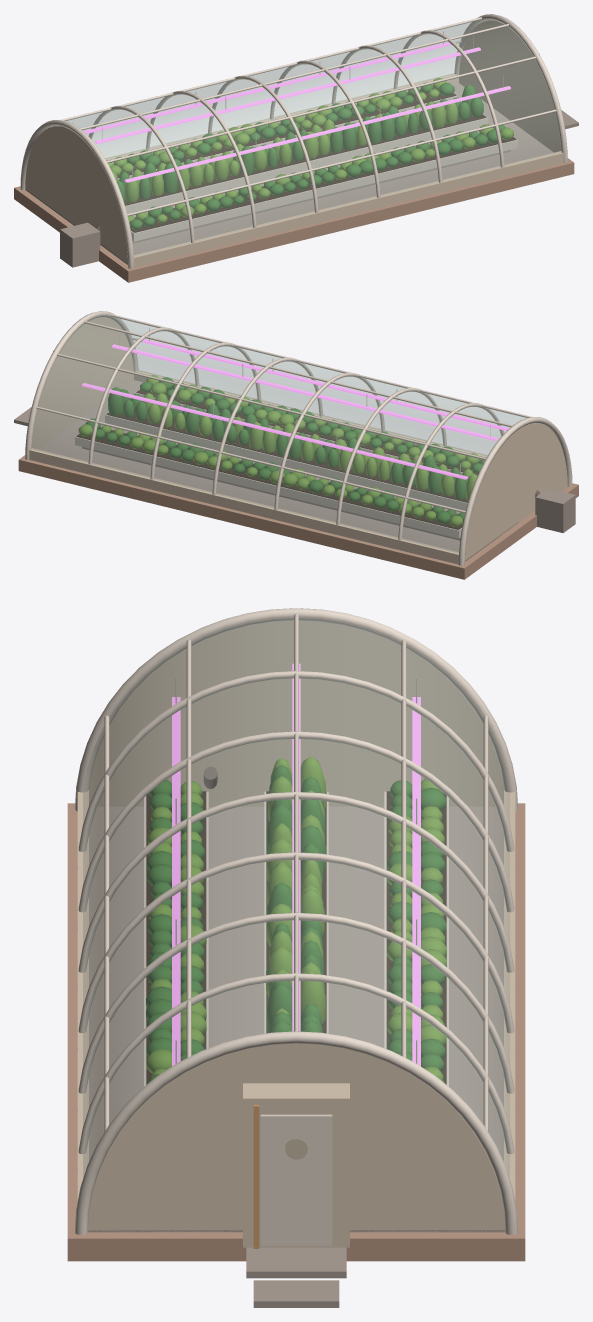
File: A01_arched_greenhouse_14m.glb
The picture shows the model from 3 angles, top to bottom: view 1: azimuth 30°, elevation 25°; view 2: azimuth 150°, elevation 25°; view 3: azimuth 270°, elevation 25°; orthographic projection. The views are drawn at different scales.
Visible parts, largest first — view 1: glazing, end_wall (×2), rib (×8), foundation, bed_trough (×3), base_wall (×2), floor, purlin (×4), grow_light (×3), substrate (×3), climate_unit, bed_stand (+1 smaller); view 2: glazing, end_wall (×2), rib (×8), foundation, base_wall (×2), bed_trough (×2), floor, purlin (×4), grow_light (×3), substrate (×3), climate_unit, bed_stand (+2 smaller); view 3: glazing, end_wall (×2), floor, rib (×8), foundation, purlin (×5), airlock_door, airlock_porch, grow_light (×3), base_wall (×2), step (×2), substrate (×3) (+2 smaller).
Boxes of the visible parts, x1=… form: glazing: x1=66, y1=18, x2=561, y2=256; end_wall (×2): x1=25, y1=20, x2=561, y2=263; rib (×8): x1=20, y1=14, x2=567, y2=268; foundation: x1=14, y1=158, x2=574, y2=282; bed_trough (×3): x1=118, y1=93, x2=517, y2=241; base_wall (×2): x1=25, y1=73, x2=563, y2=267; floor: x1=25, y1=83, x2=553, y2=264; purlin (×4): x1=60, y1=17, x2=556, y2=216; grow_light (×3): x1=83, y1=42, x2=510, y2=182; substrate (×3): x1=117, y1=88, x2=516, y2=232; climate_unit: x1=60, y1=222, x2=100, y2=267; bed_stand: x1=132, y1=150, x2=510, y2=243; glazing: x1=31, y1=315, x2=526, y2=553; end_wall (×2): x1=31, y1=317, x2=567, y2=560; rib (×8): x1=25, y1=311, x2=572, y2=565; foundation: x1=18, y1=455, x2=578, y2=579; base_wall (×2): x1=29, y1=370, x2=487, y2=564; bed_trough (×2): x1=75, y1=412, x2=467, y2=538; floor: x1=39, y1=380, x2=518, y2=561; purlin (×4): x1=36, y1=314, x2=532, y2=513; grow_light (×3): x1=82, y1=339, x2=509, y2=479; substrate (×3): x1=76, y1=389, x2=479, y2=529; climate_unit: x1=535, y1=488, x2=575, y2=532; bed_stand: x1=82, y1=447, x2=460, y2=540; glazing: x1=83, y1=618, x2=509, y2=1177; end_wall (×2): x1=88, y1=620, x2=504, y2=1232; floor: x1=88, y1=806, x2=505, y2=1232; rib (×8): x1=74, y1=608, x2=518, y2=1234; foundation: x1=67, y1=803, x2=525, y2=1261; purlin (×5): x1=104, y1=613, x2=488, y2=1132; airlock_door: x1=260, y1=1114, x2=332, y2=1245; airlock_porch: x1=243, y1=1083, x2=349, y2=1247; grow_light (×3): x1=172, y1=663, x2=420, y2=1066; base_wall (×2): x1=77, y1=790, x2=515, y2=1232; step (×2): x1=246, y1=1247, x2=346, y2=1307; substrate (×3): x1=146, y1=791, x2=446, y2=1084.
Bounding box in the file's own units: 16.9 × 3.45 × 6.4.
